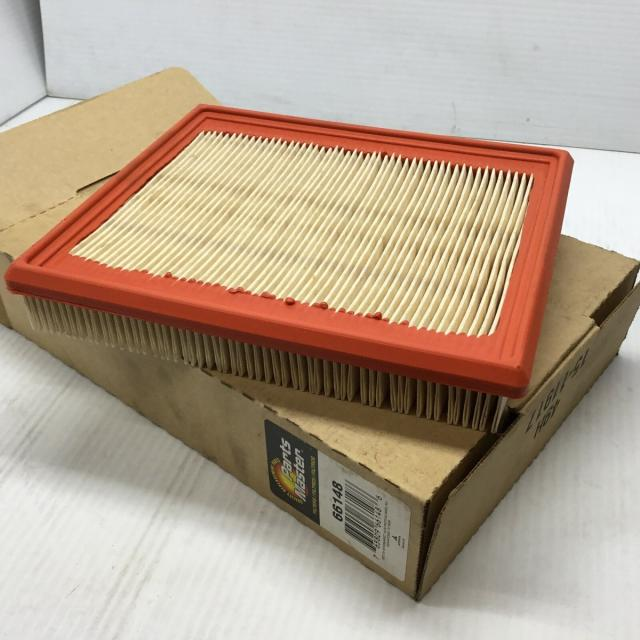air_filter: (3, 99, 575, 396)
